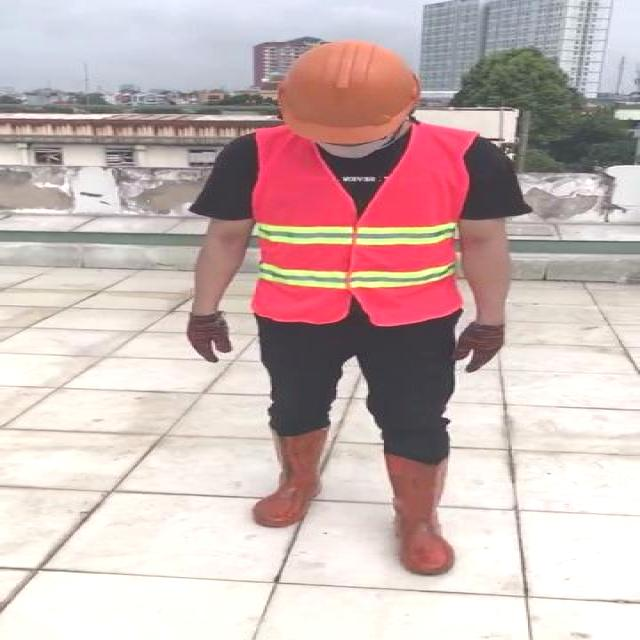boots: (380, 454, 457, 575), (252, 424, 334, 528)
hand_glove: (453, 325, 507, 375), (187, 312, 229, 362)
head_helmet: (281, 39, 425, 140)
person: (157, 46, 535, 596)
vest: (247, 128, 473, 320)
